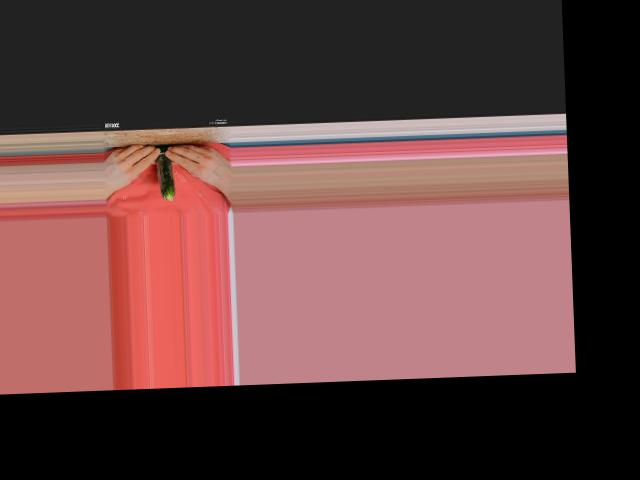cucumber: (156, 144, 176, 200)
